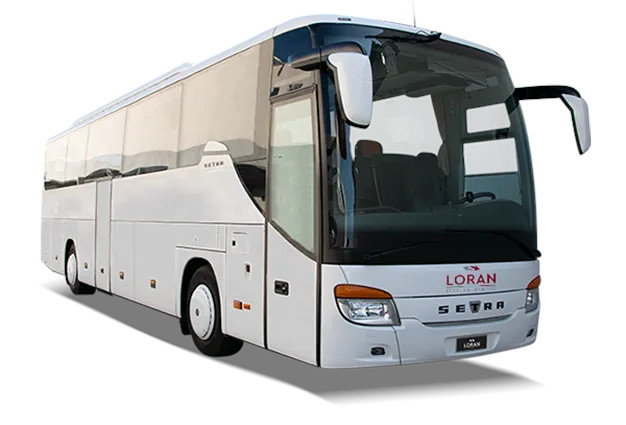autobus: (37, 11, 595, 373)
